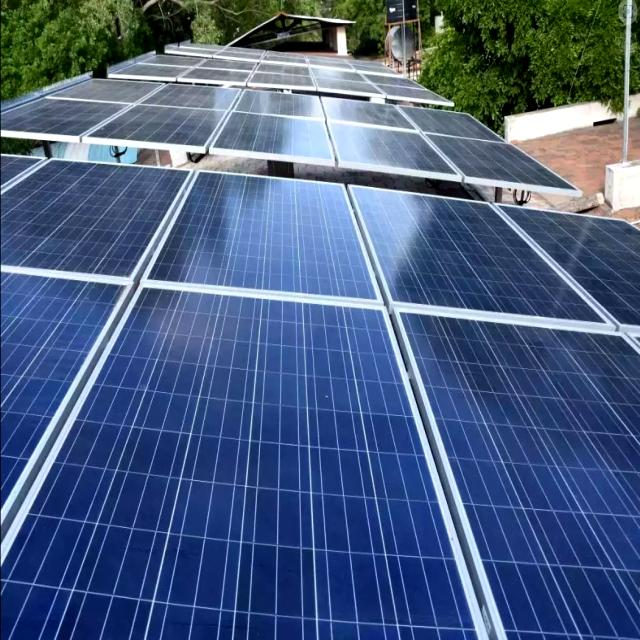crack: (0, 302, 389, 640), (375, 295, 640, 639), (338, 169, 592, 349), (137, 164, 396, 320)
